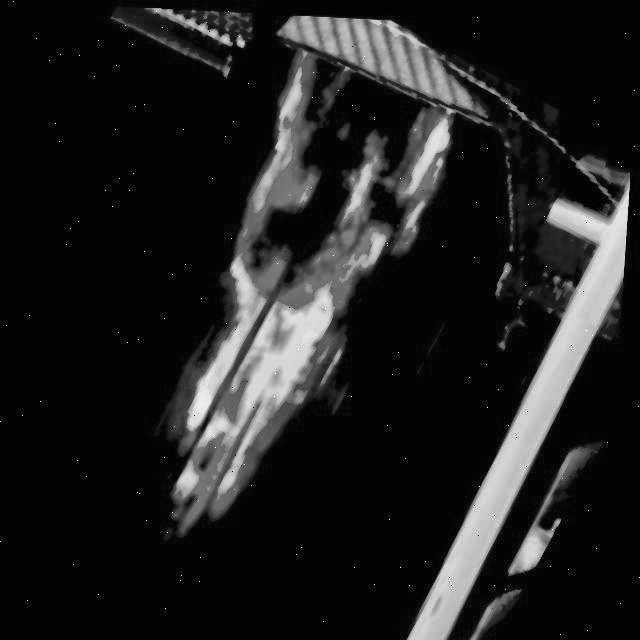Fire: (82, 24, 477, 553)
